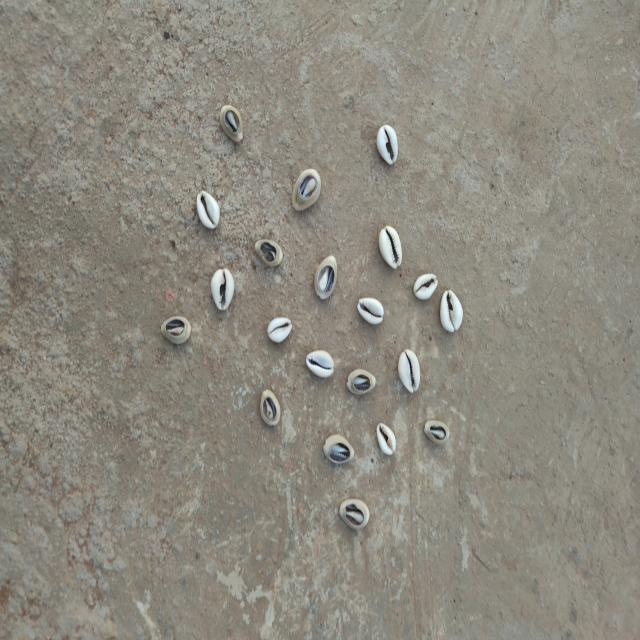facedown: (287, 164, 322, 212), (334, 496, 373, 534), (312, 252, 341, 301), (251, 236, 290, 272), (218, 101, 248, 145), (321, 431, 356, 468), (256, 386, 284, 428), (156, 314, 192, 344), (343, 368, 380, 394), (422, 418, 454, 448)
faceup: (376, 223, 408, 275), (395, 347, 423, 398), (440, 285, 465, 337), (373, 123, 402, 167), (354, 294, 391, 328), (210, 266, 236, 312), (195, 188, 222, 231), (303, 347, 337, 381), (375, 421, 400, 461), (408, 272, 441, 300), (264, 313, 294, 343)
